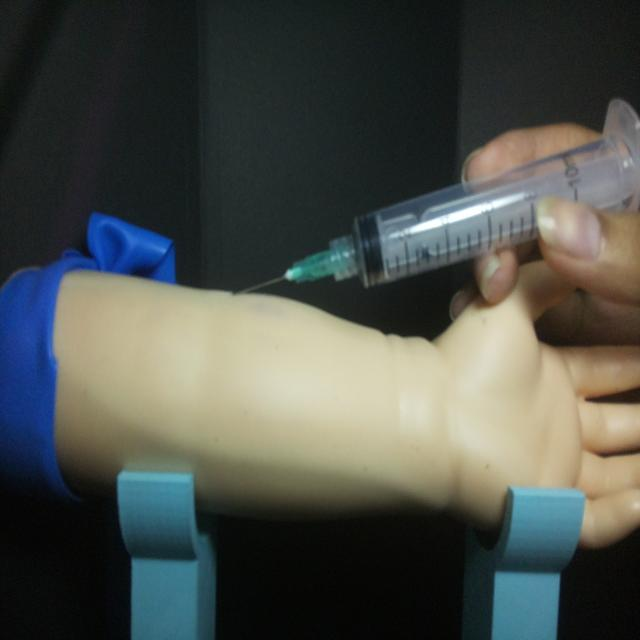20deg: (232, 95, 637, 300)
